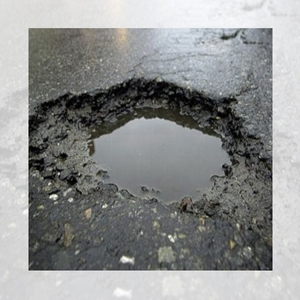pothole: (32, 80, 270, 236)
